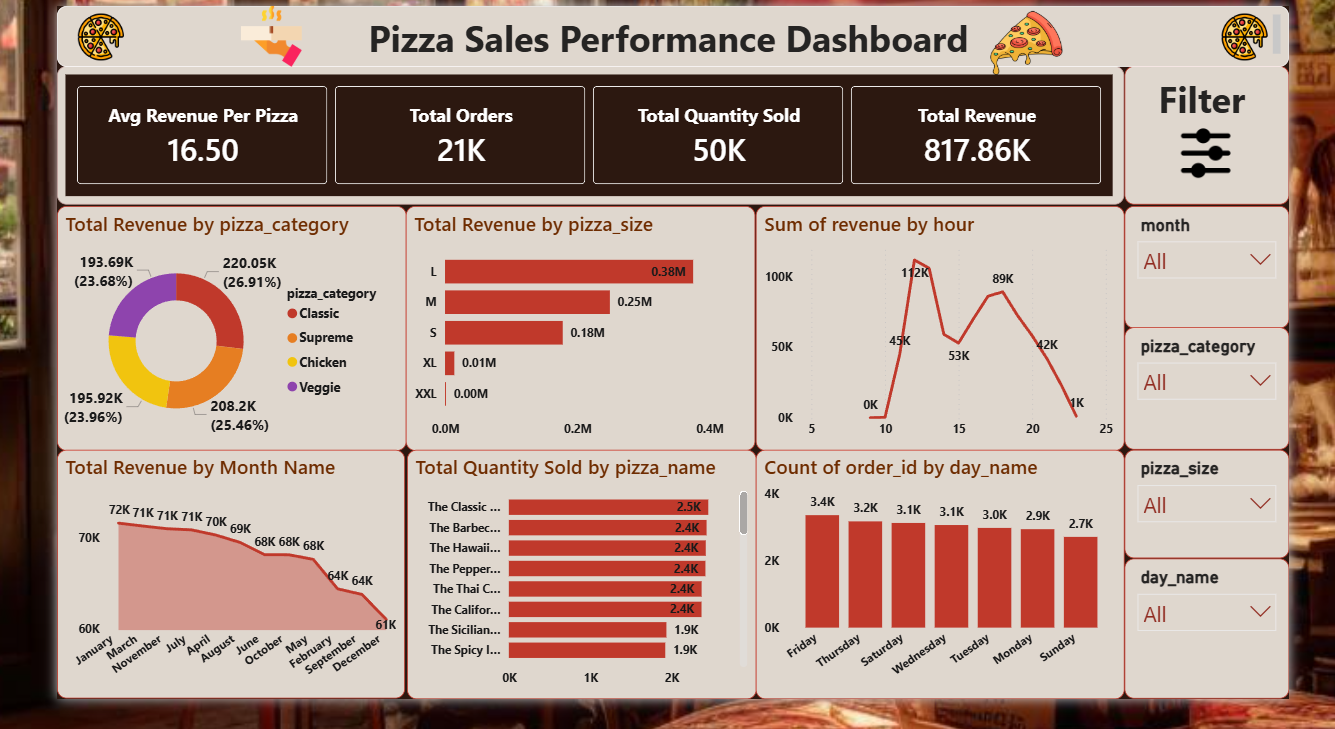

Layout of this report page (visuals, bound fields, positions):
{"tool":"powerbi","page":{"name":"Page 1","canvas":[1280,720],"ordinal":0},"visuals":[{"type":"cardVisual","fields":{"Data":["cleaned_pizza_sales.Avg Revenue Per Pizza","cleaned_pizza_sales.Total Orders","cleaned_pizza_sales.Total Quantity Sold","cleaned_pizza_sales.Total Revenue"]},"box":[0,62.9,1108.6,144.3],"z":0},{"type":"donutChart","fields":{"Category":["cleaned_pizza_sales.pizza_category"],"Y":["cleaned_pizza_sales.Total Revenue"]},"box":[0,207.1,362.9,254.3],"z":1000},{"type":"barChart","fields":{"Category":["cleaned_pizza_sales.pizza_size"],"Y":["cleaned_pizza_sales.Total Revenue"]},"box":[362.9,207.1,362.9,254.3],"z":2000},{"type":"lineChart","fields":{"Category":["cleaned_pizza_sales.hour"],"Y":["Sum(cleaned_pizza_sales.revenue)"]},"box":[725.7,207.1,382.9,254.3],"z":3000},{"type":"areaChart","fields":{"Category":["cleaned_pizza_sales.Month Name"],"Y":["cleaned_pizza_sales.Total Revenue"]},"box":[0,461.4,361.4,258.6],"z":4000},{"type":"clusteredBarChart","fields":{"Category":["cleaned_pizza_sales.pizza_name"],"Y":["cleaned_pizza_sales.Total Quantity Sold"]},"box":[363,461,363,259],"z":5000},{"type":"columnChart","fields":{"Category":["cleaned_pizza_sales.day_name"],"Y":["Count(cleaned_pizza_sales.order_id)"]},"box":[726,461,383,259],"z":6000},{"type":"slicer","fields":{"Values":["cleaned_pizza_sales.month"]},"box":[1108.6,207.1,171.4,127.1],"z":7000},{"type":"slicer","fields":{"Values":["cleaned_pizza_sales.pizza_category"]},"box":[1108.6,334.3,171.4,127.1],"z":8000},{"type":"slicer","fields":{"Values":["cleaned_pizza_sales.pizza_size"]},"box":[1108.6,461.4,171.4,112.9],"z":9000},{"type":"slicer","fields":{"Values":["cleaned_pizza_sales.day_name"]},"box":[1108.6,574.3,171.4,145.7],"z":10000},{"type":"textbox","box":[1108.6,62.9,171.4,144.3],"z":11000},{"type":"textbox","box":[0,0,1280,62.9],"z":12000},{"type":"image","box":[1120,121.4,148.6,61.4],"z":13000},{"type":"image","box":[0,7.1,91.4,48.6],"z":14000},{"type":"image","box":[857.1,0,300,77.1],"z":15000},{"type":"image","box":[1188.6,7.1,91.4,48.6],"z":16000},{"type":"image","box":[72.9,0,300,62.9],"z":17000}]}

Visuals, with their boxes in screenshot pixels (x1, y1, x2, y2):
cardVisual - cleaned_pizza_sales.Avg Revenue Per Pizza x cleaned_pizza_sales.Total Orders: bbox=(52, 61, 1121, 200)
donutChart - cleaned_pizza_sales.pizza_category x cleaned_pizza_sales.Total Revenue: bbox=(52, 200, 402, 445)
barChart - cleaned_pizza_sales.pizza_size x cleaned_pizza_sales.Total Revenue: bbox=(402, 200, 752, 445)
lineChart - cleaned_pizza_sales.hour x Sum(cleaned_pizza_sales.revenue): bbox=(752, 200, 1121, 445)
areaChart - cleaned_pizza_sales.Month Name x cleaned_pizza_sales.Total Revenue: bbox=(52, 445, 401, 694)
clusteredBarChart - cleaned_pizza_sales.pizza_name x cleaned_pizza_sales.Total Quantity Sold: bbox=(402, 445, 752, 694)
columnChart - cleaned_pizza_sales.day_name x Count(cleaned_pizza_sales.order_id): bbox=(752, 445, 1122, 694)
slicer - cleaned_pizza_sales.month: bbox=(1121, 200, 1287, 322)
slicer - cleaned_pizza_sales.pizza_category: bbox=(1121, 322, 1287, 445)
slicer - cleaned_pizza_sales.pizza_size: bbox=(1121, 445, 1287, 554)
slicer - cleaned_pizza_sales.day_name: bbox=(1121, 554, 1287, 694)
textbox: bbox=(1121, 61, 1287, 200)
textbox: bbox=(52, 0, 1287, 61)
image: bbox=(1132, 117, 1276, 176)
image: bbox=(52, 7, 140, 54)
image: bbox=(879, 0, 1168, 74)
image: bbox=(1199, 7, 1287, 54)
image: bbox=(122, 0, 412, 61)
